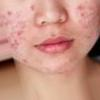Acne: (73, 1, 89, 19), (1, 12, 12, 26), (91, 20, 100, 35), (10, 40, 19, 50), (13, 30, 24, 38)
